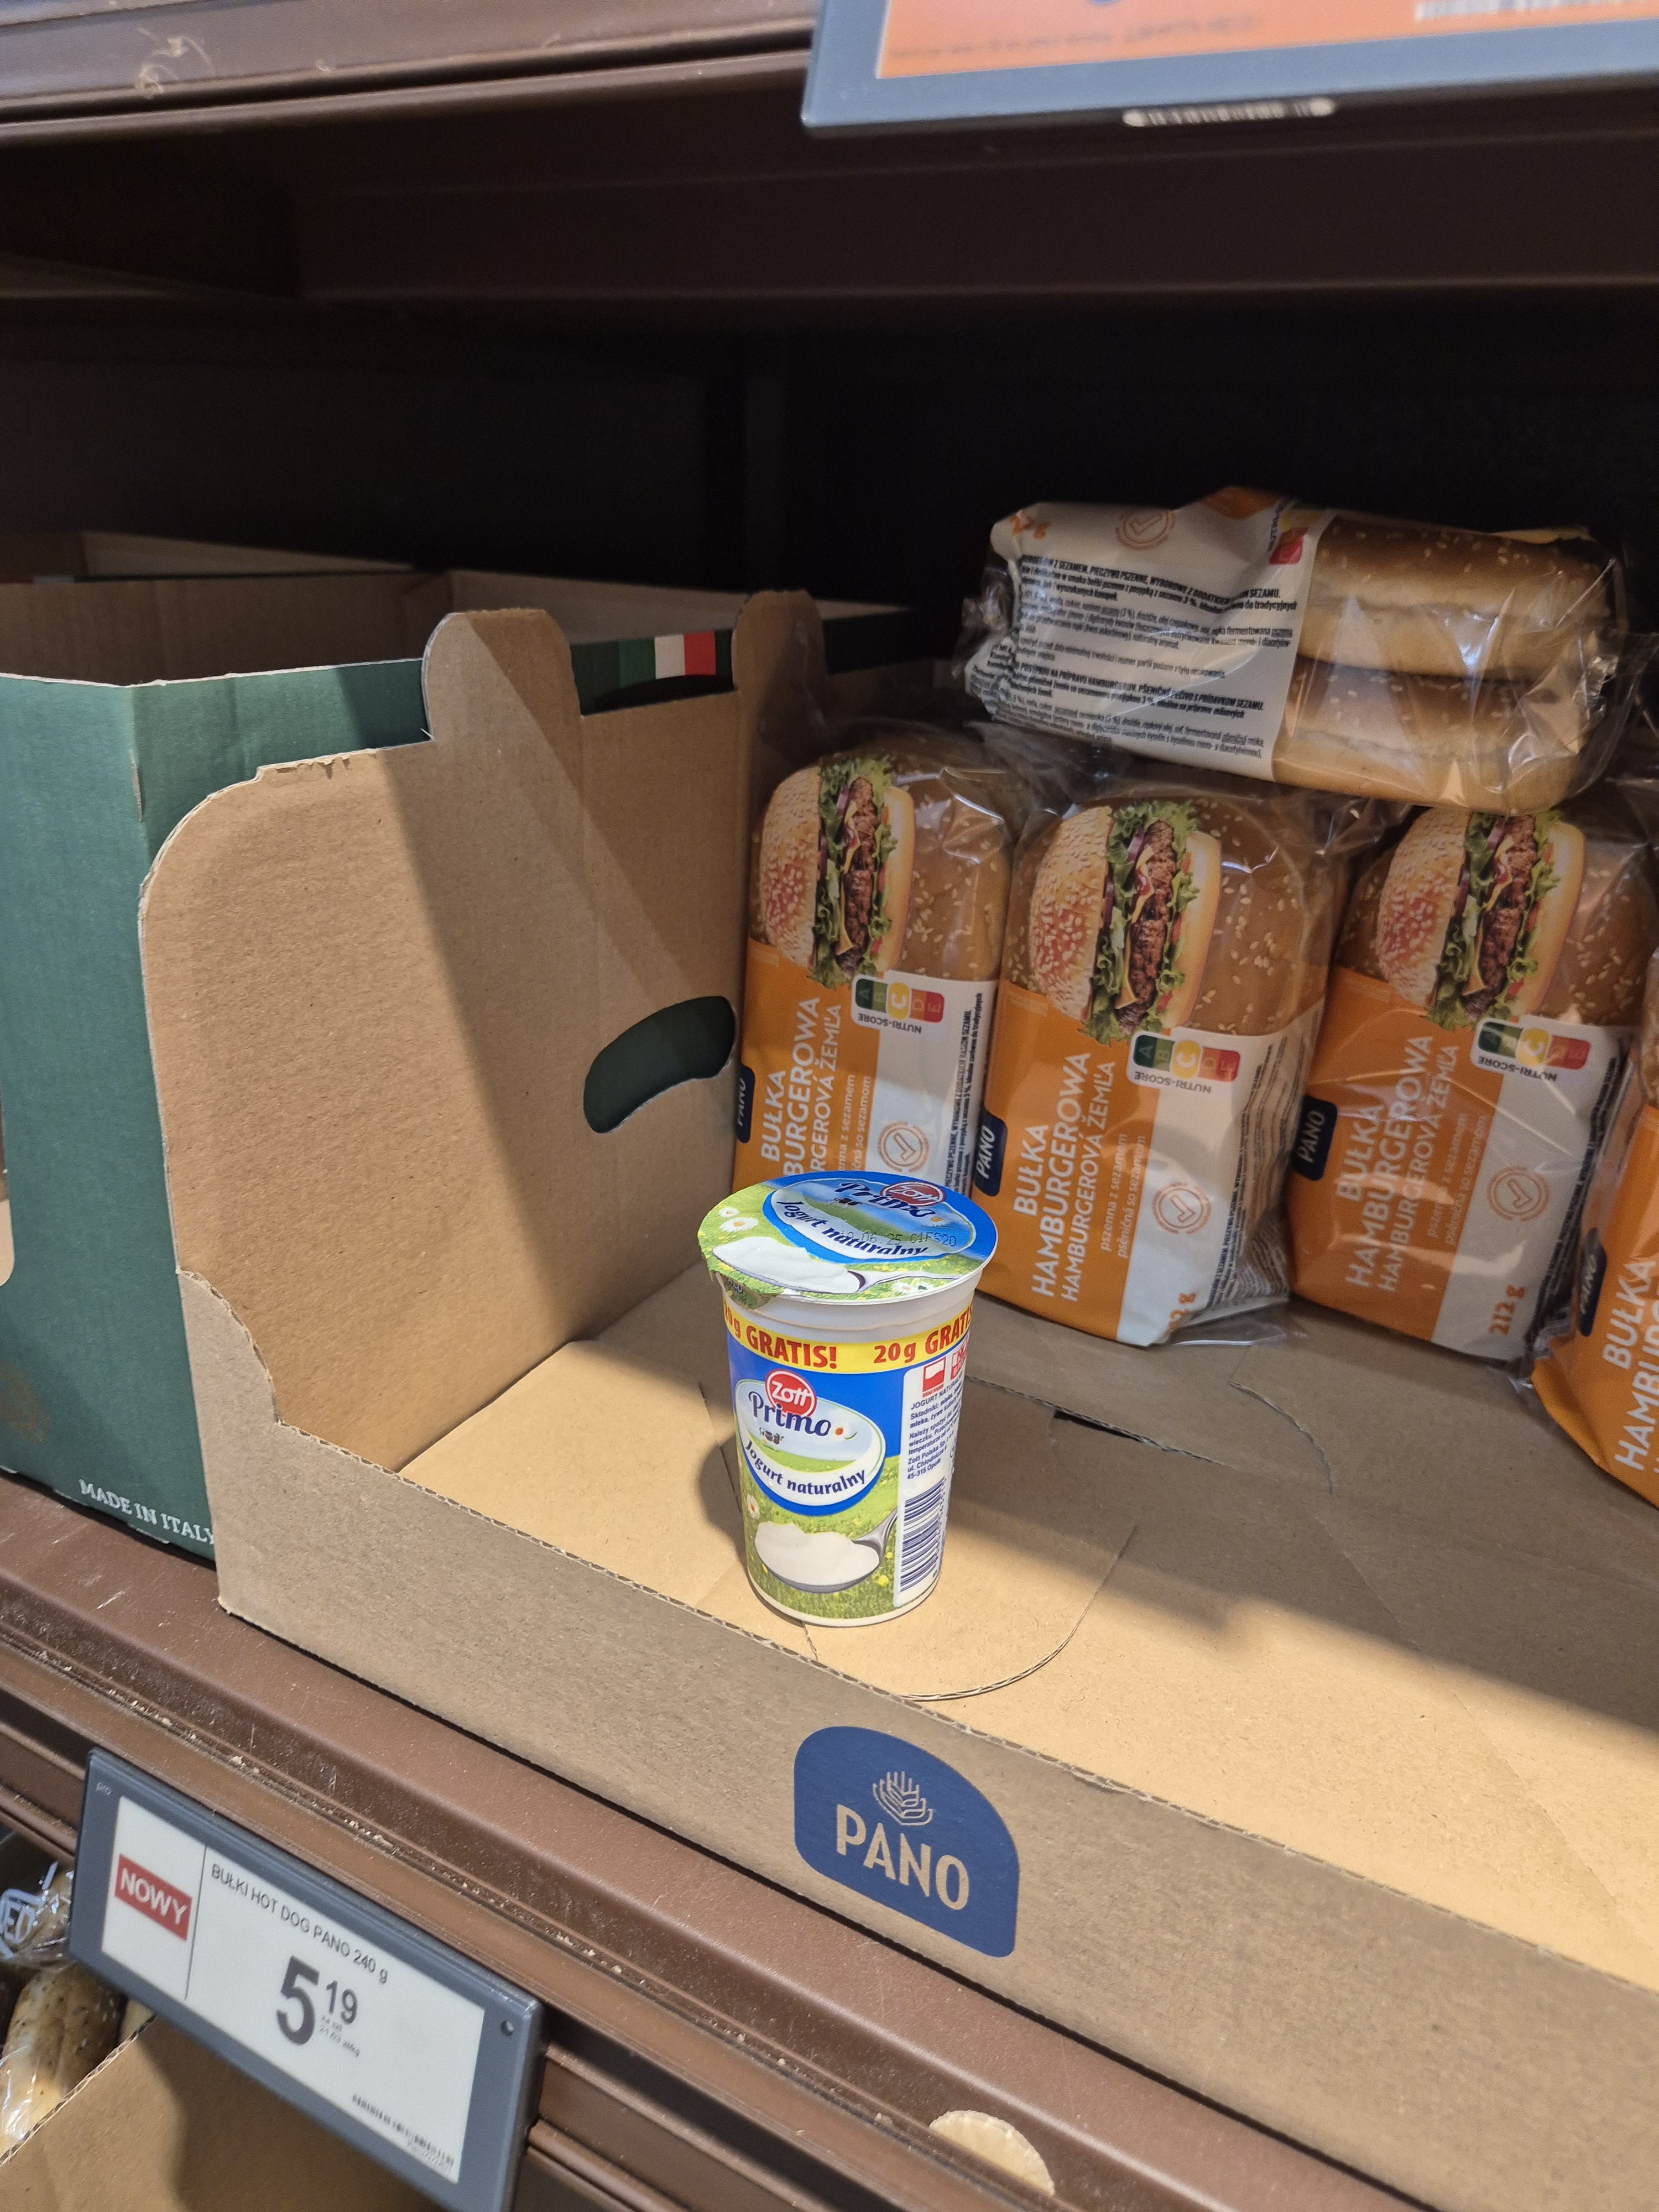Yogurt: (688, 1160, 986, 1644)
